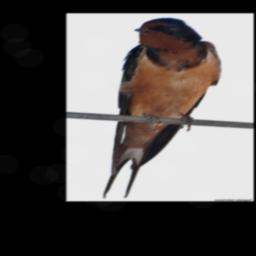Swallow: (101, 17, 222, 200)
